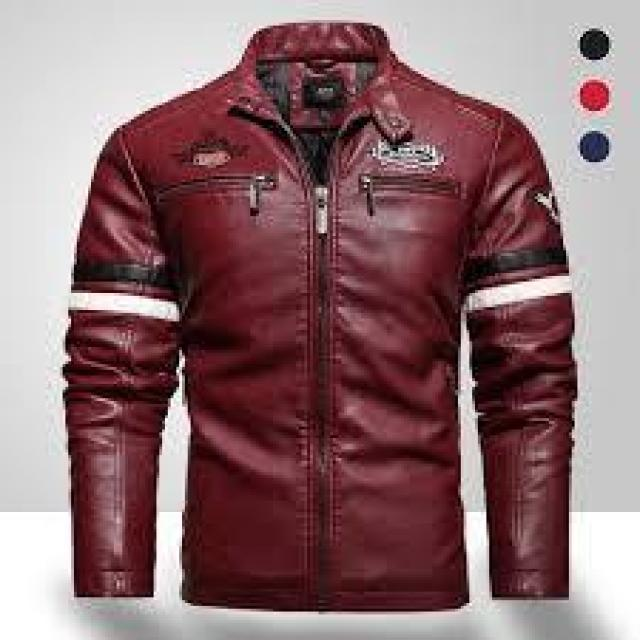jacket: (58, 18, 579, 604)
